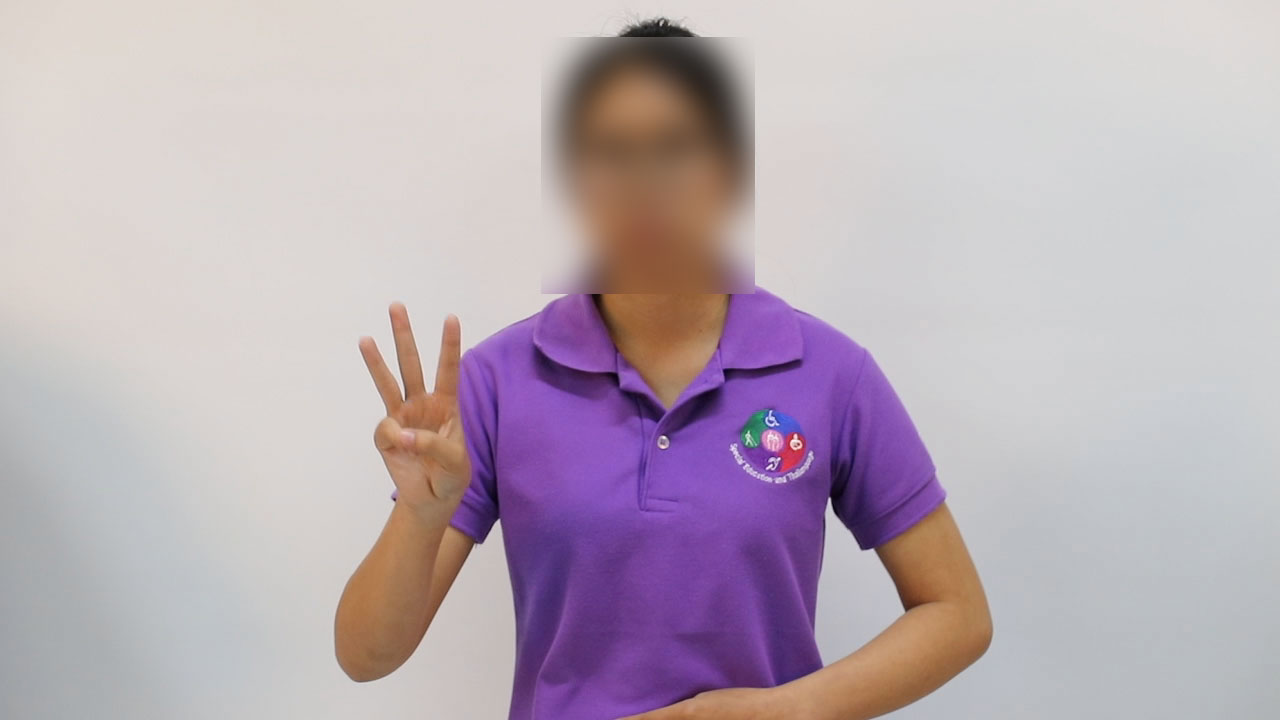wor: (347, 291, 479, 538)
